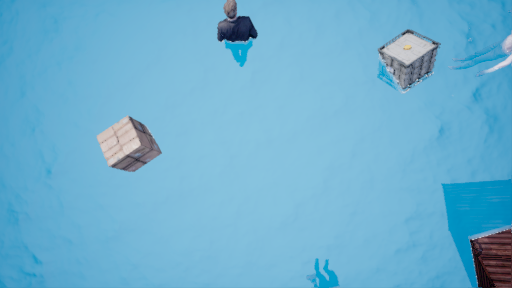person: (216, 2, 264, 72)
